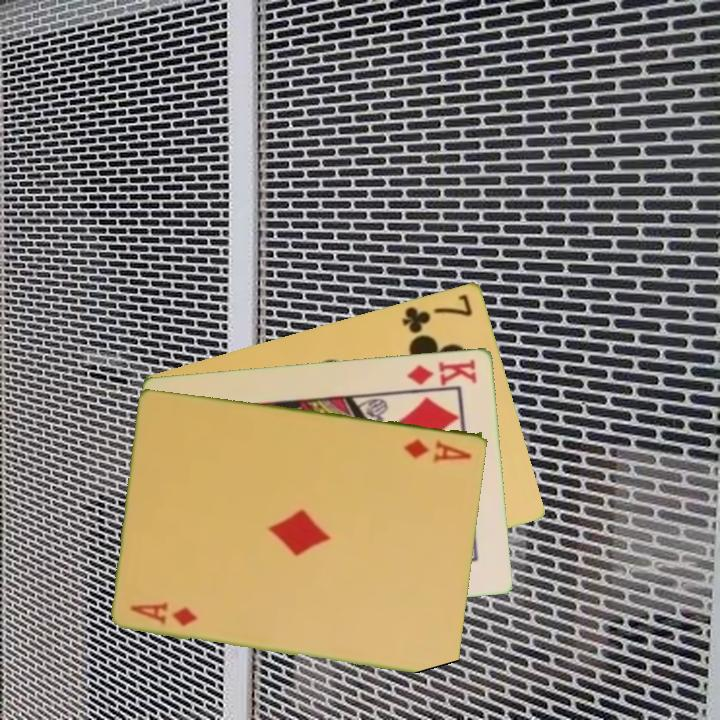7c: (399, 290, 476, 336)
Ad: (401, 435, 475, 464), (127, 600, 201, 629)
Kd: (404, 355, 480, 388)
